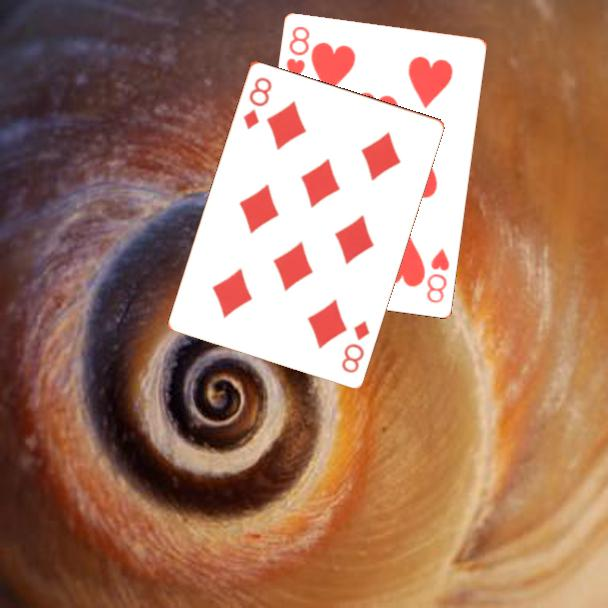d08: (239, 73, 275, 132), (338, 316, 372, 375)
h08: (423, 245, 453, 306), (283, 23, 313, 84)
